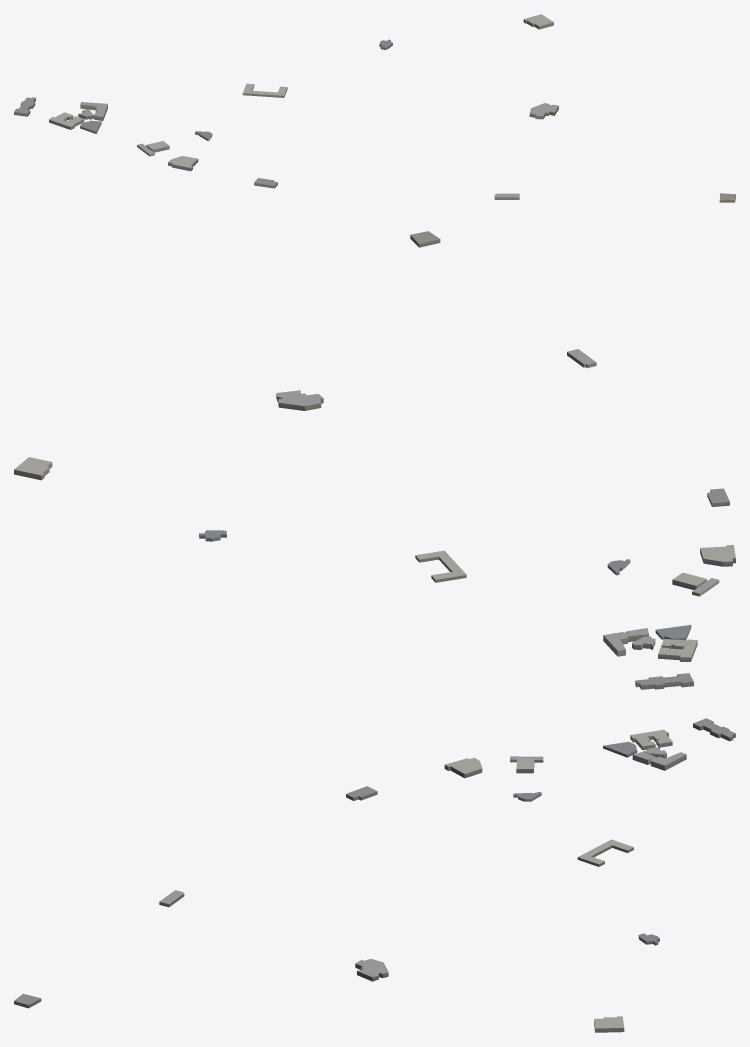
File: bld_8_3.fbx
The picture shows the model from 3 angles, top to bottom: view 1: azimuth 30°, elevation 25°; view 2: azimuth 150°, elevation 25°; view 3: azimuth 270°, elevation 25°; orthographic projection. The views are drawn at different scales.
Visible parts, largest first — view 1: bld_8_3_LOD0; view 2: bld_8_3_LOD0; view 3: bld_8_3_LOD0.
Boxes of the visible parts, x1=… form: bld_8_3_LOD0: x1=14, y1=14, x2=735, y2=202; bld_8_3_LOD0: x1=14, y1=231, x2=735, y2=689; bld_8_3_LOD0: x1=14, y1=718, x2=735, y2=1032.
Bounding box in the file's own units: 2030 × 15.66 × 1994.
